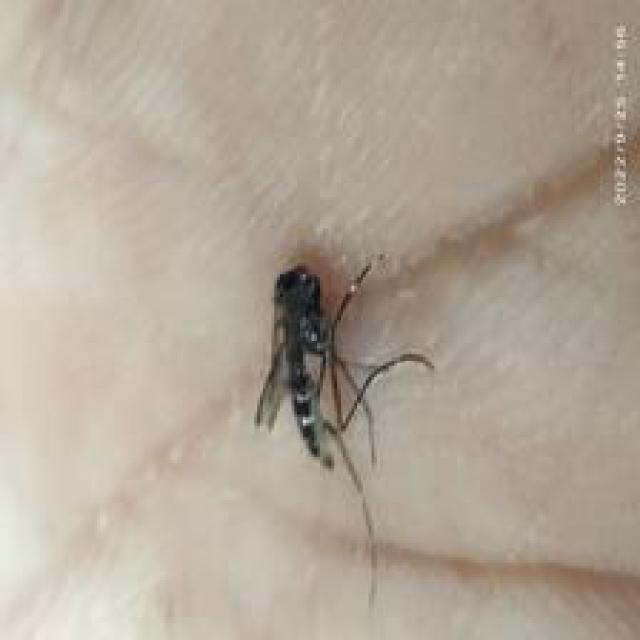Aedes albopictus: (253, 252, 436, 612)
